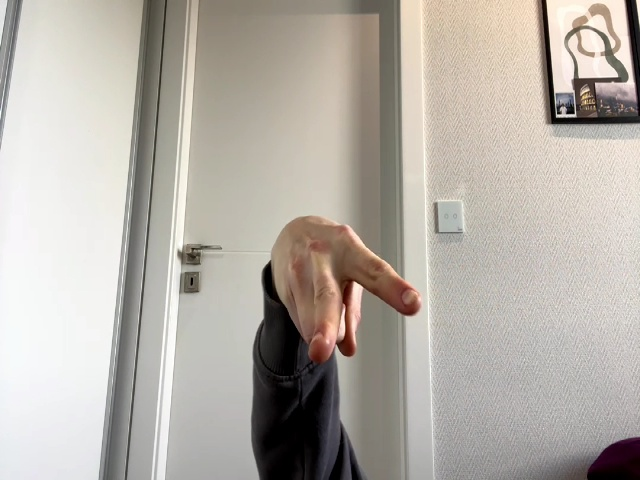U: (271, 216, 421, 363)
